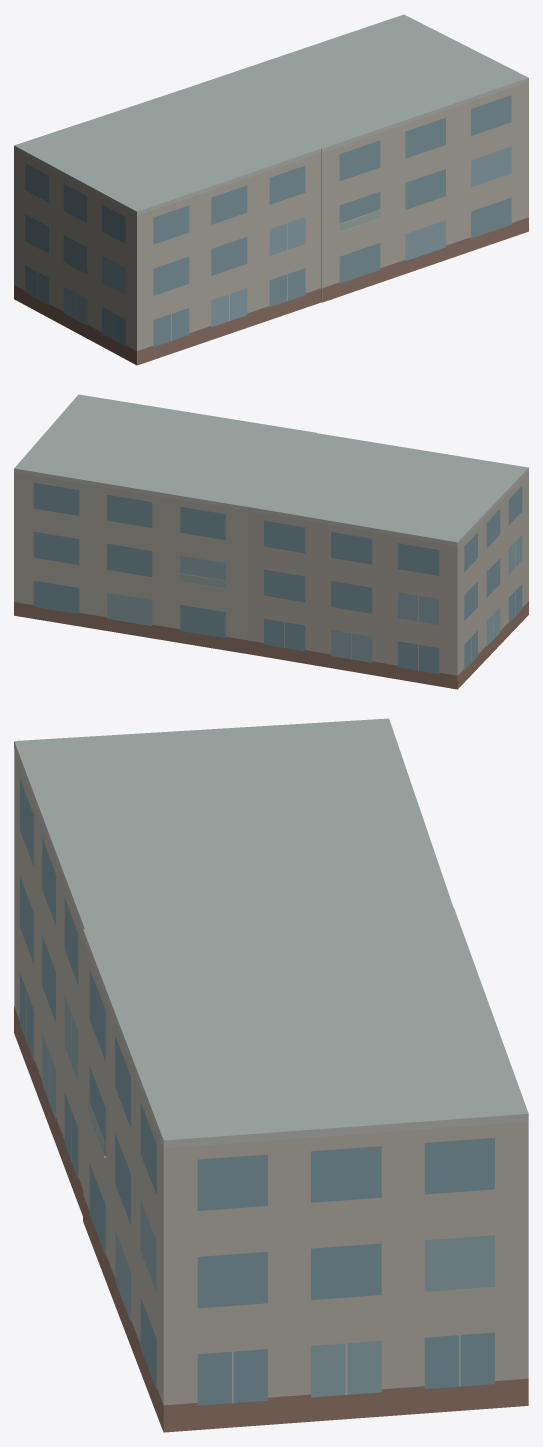
File: survey-upis-33047060.glb
3 views of the same model, one above another, from view 1: azimuth 30°, elevation 25°; view 2: azimuth 150°, elevation 25°; view 3: azimuth 270°, elevation 25° (orthographic). The views are drawn at different scales.
Parts seen in each view (by area): view 1: survey-upis-33047060.tmp; view 2: survey-upis-33047060.tmp; view 3: survey-upis-33047060.tmp.
Boxes of the visible parts, x1,y1,x2,y2 form: survey-upis-33047060.tmp: (14,14,528,365); survey-upis-33047060.tmp: (14,394,528,689); survey-upis-33047060.tmp: (14,718,528,1432).
Bounding box in the file's own units: 28.38 × 9.15 × 14.63.
